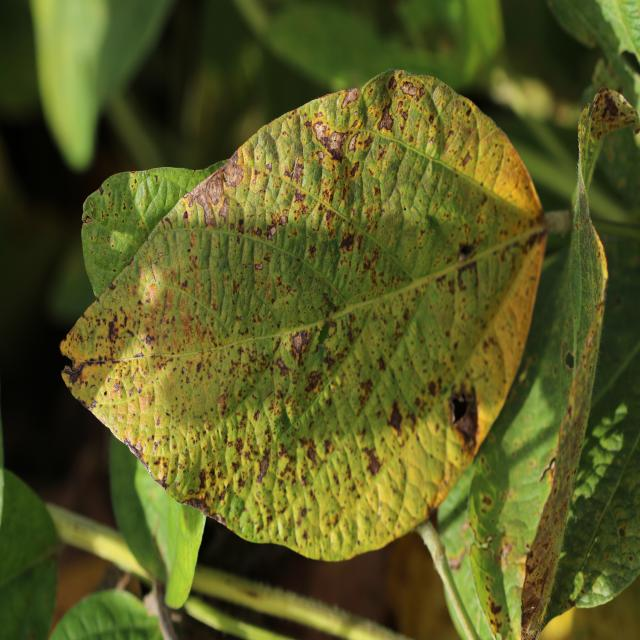Bacterial_Blight: (446, 372, 483, 423), (313, 120, 348, 159), (121, 435, 153, 472), (288, 330, 314, 364), (456, 259, 480, 292), (224, 158, 245, 188), (63, 360, 87, 386), (362, 446, 382, 477), (180, 496, 211, 515), (522, 230, 543, 256), (387, 400, 403, 433), (256, 449, 271, 482), (377, 107, 395, 133), (399, 81, 422, 100), (427, 503, 442, 532), (534, 205, 550, 230), (458, 241, 477, 261), (340, 88, 359, 108), (339, 232, 356, 253), (275, 357, 291, 378), (290, 159, 304, 182), (305, 444, 318, 468), (107, 319, 120, 343), (265, 224, 280, 241), (218, 198, 229, 221), (294, 188, 306, 203), (461, 150, 471, 168), (143, 333, 155, 346), (387, 76, 397, 91), (235, 437, 244, 452), (81, 214, 93, 225), (88, 399, 98, 411), (255, 226, 263, 238), (182, 210, 189, 223), (255, 261, 264, 271), (97, 185, 104, 196), (317, 151, 324, 162)
Soybean: (61, 70, 572, 561)
